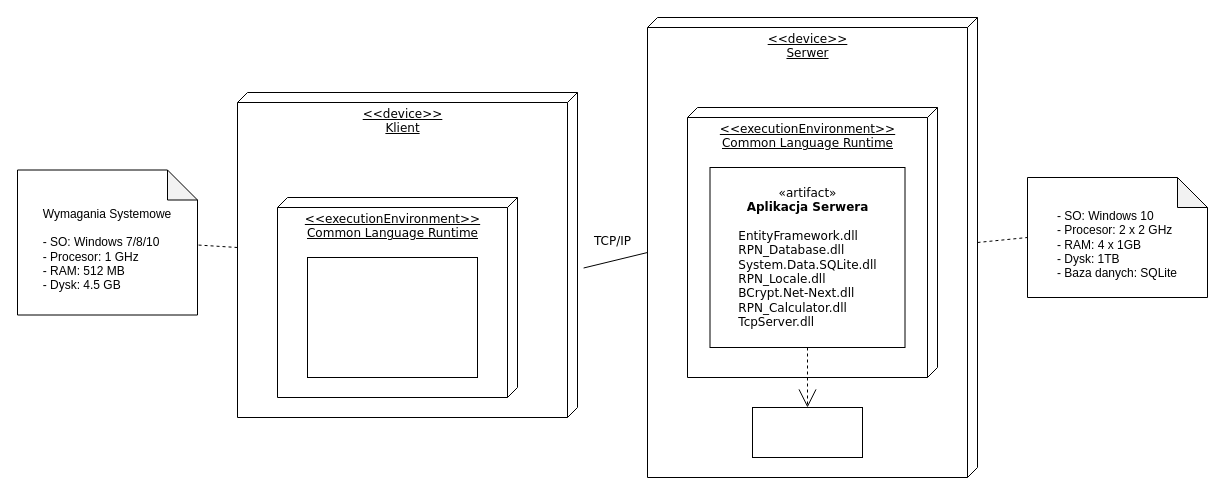
This 1225x495 diagram has some shape labels left out. The centre of each missing label's shape, as x and y in pixels:
«artifact» Aplikacja klienta RPN_Locale.dll BCrypt.Net-Next.dll: (392,317)
«artifact» Baza danych: (807,432)
